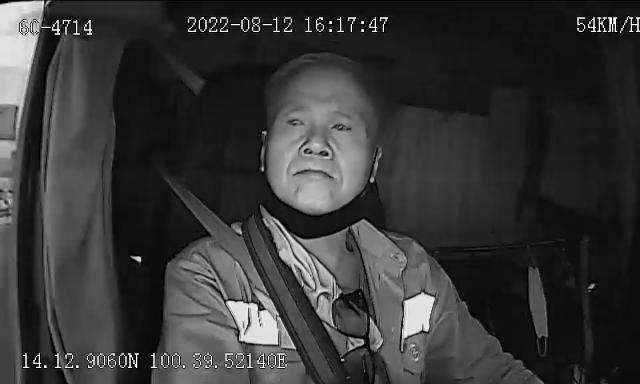SafeDriving: (324, 112, 358, 141), (277, 108, 312, 134)
Seatbelt: (160, 161, 354, 384)
